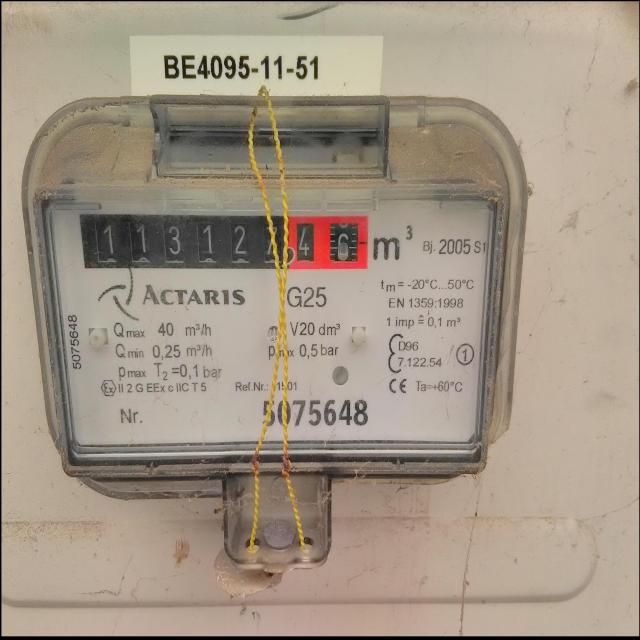gaz_meter: (30, 105, 522, 480)
indication: (79, 215, 367, 269)
